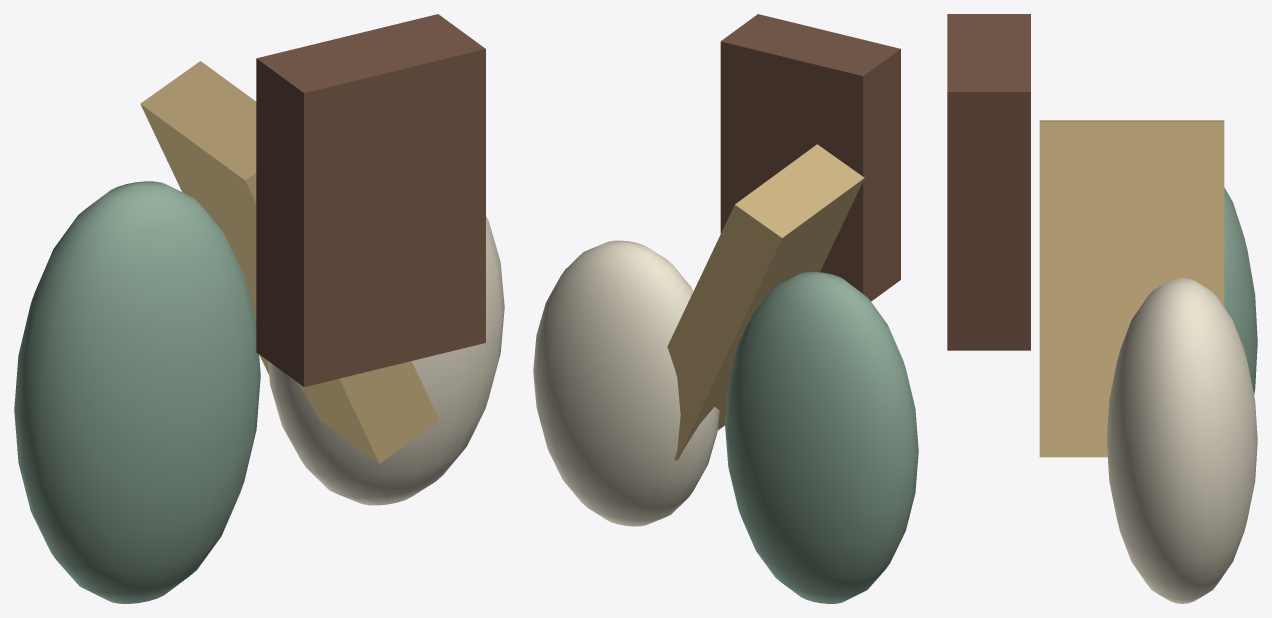
The model's file is sconce.leaf-old.glb.
3 renders of one model, left to right at view 1: azimuth 30°, elevation 25°; view 2: azimuth 150°, elevation 25°; view 3: azimuth 270°, elevation 25°, orthographic. The views are drawn at different scales.
Parts seen in each view (by area): view 1: leaf wall socket; view 2: leaf wall socket; view 3: leaf wall socket.
Boxes of the visible parts, x1,y1,x2,y2 form: leaf wall socket: (14,14,504,603); leaf wall socket: (533,14,918,603); leaf wall socket: (947,14,1257,603).
Size of the model in its own units: 0.575 by 0.69 by 0.37.
